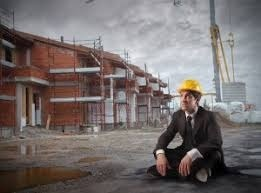helmet: (175, 77, 206, 98)
person with partial safety: (145, 77, 227, 185)
